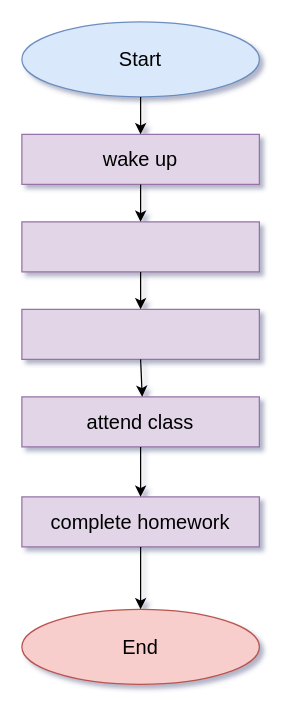
Some shapes in this 289 by 714 pixel diagram are drawn without their labels. The shapes that lost their labels are listed below. From the top down, each one's centre as x and y in pixels, then its label:
At point (140, 246): "get ready".
At point (140, 333): "eat breakfast".
